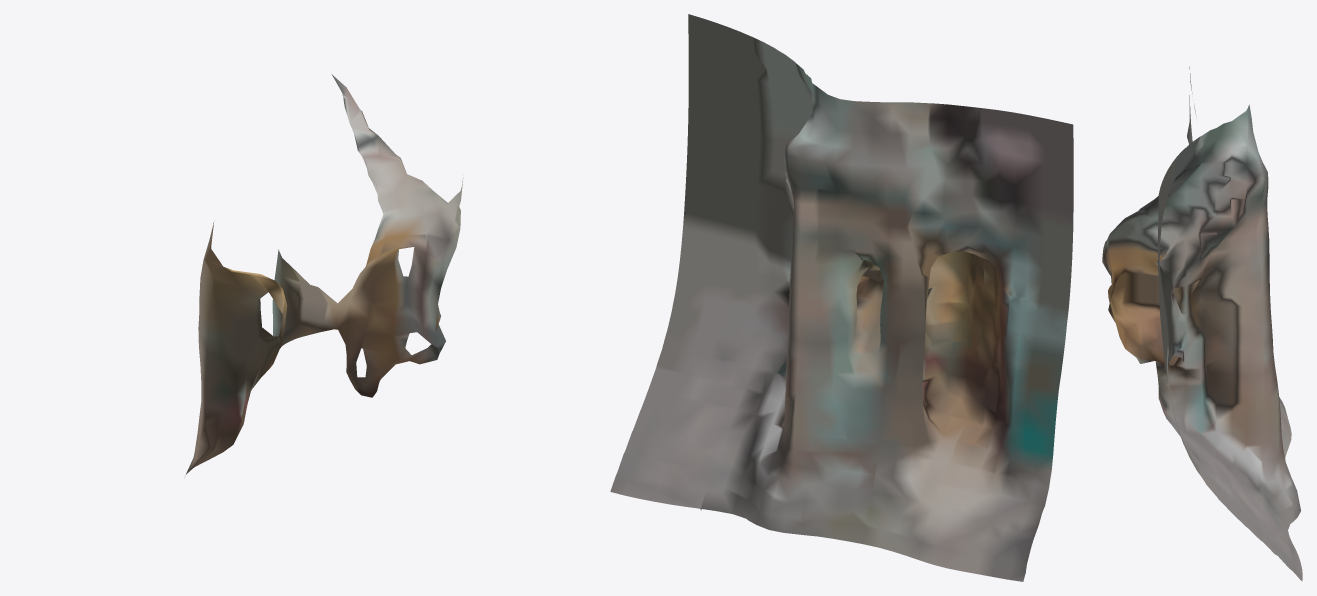
Rendered from image.gltf.
3 views of the same model, side by side, from view 1: azimuth 30°, elevation 25°; view 2: azimuth 150°, elevation 25°; view 3: azimuth 270°, elevation 25° (orthographic). The views are drawn at different scales.
Size of the model in its own units: 0.00144 by 0.00144 by 0.000674.
